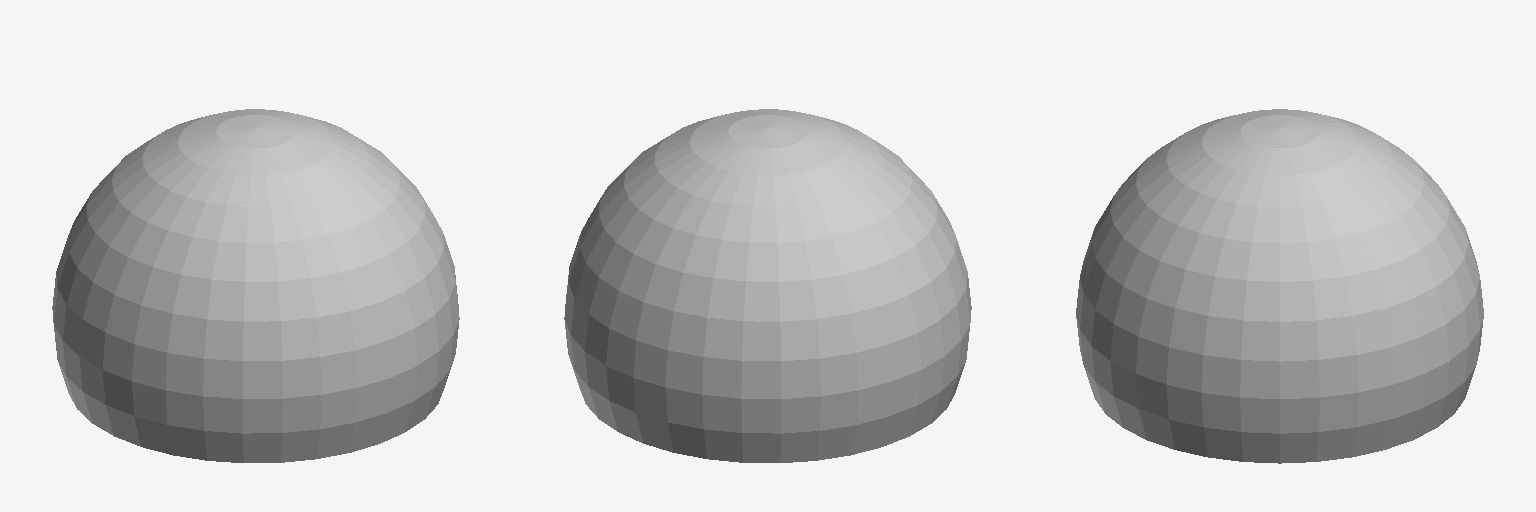
Rendered from sphereSkybox.obj.
3 views of the same model, side by side, from view 1: azimuth 30°, elevation 25°; view 2: azimuth 150°, elevation 25°; view 3: azimuth 270°, elevation 25° (orthographic).
Visible parts, largest first — view 1: Sphere_Sphere.001; view 2: Sphere_Sphere.001; view 3: Sphere_Sphere.001.
Part boxes in pixels (x1,y1,x2,y2): Sphere_Sphere.001: (52,109,459,462); Sphere_Sphere.001: (564,109,971,462); Sphere_Sphere.001: (1076,109,1483,463).
Bounding box in the file's own units: 2 × 1.38 × 2.